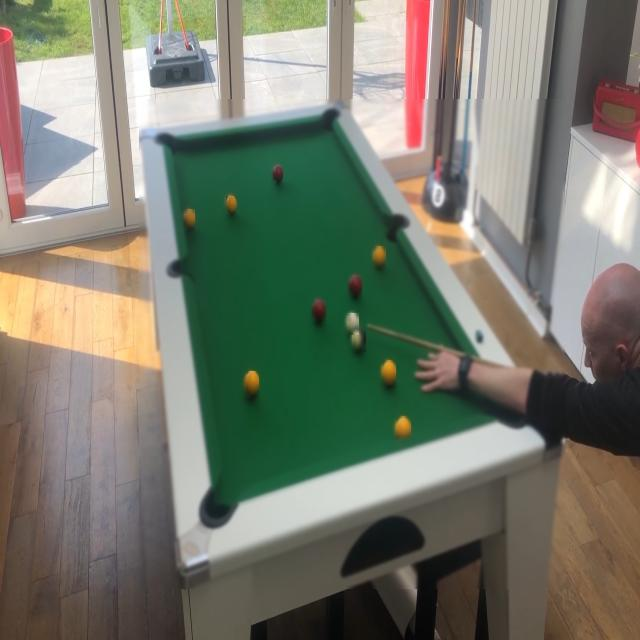Ball: (382, 360, 397, 388), (352, 326, 366, 352), (246, 372, 259, 398), (396, 416, 411, 438), (312, 300, 326, 322), (373, 246, 386, 268), (350, 275, 362, 297), (347, 313, 359, 335), (184, 209, 195, 230), (226, 196, 237, 214), (274, 165, 283, 183)
Billiard table: (140, 99, 566, 589)
